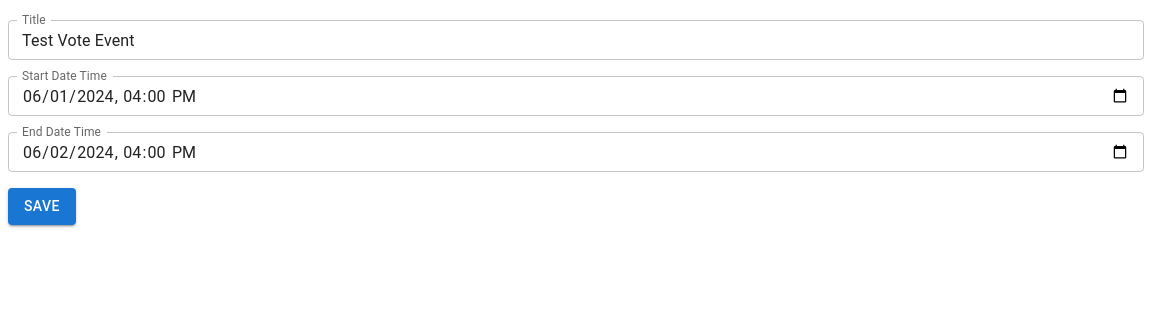
Test: <GeneralSettingsTab /> › should show validation errors for empty fields
Clear the field with id "title-input" at (576, 40), box [8,20,1144,60]
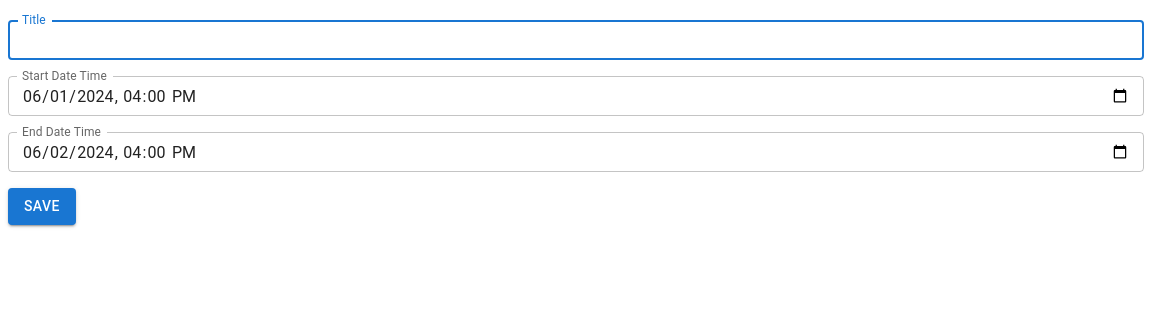
Clear the field with id "start-time-input" at (576, 96), box [8,76,1144,116]
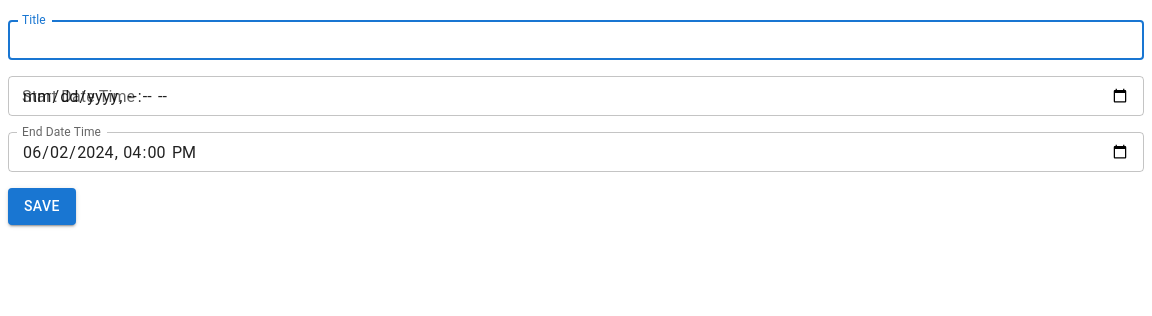
Clear the field with id "end-time-input" at (576, 152), box [8,132,1144,172]
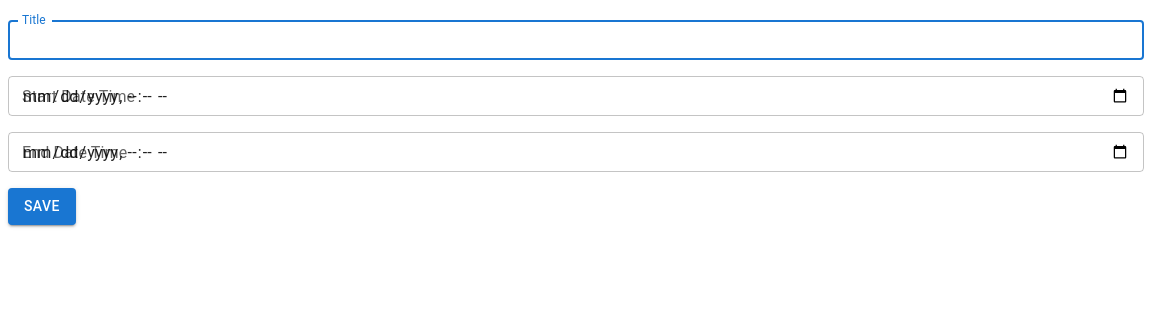
Click the button with id "edit-vote-event-general-settings-button" at (42, 207), box [8,188,76,225]
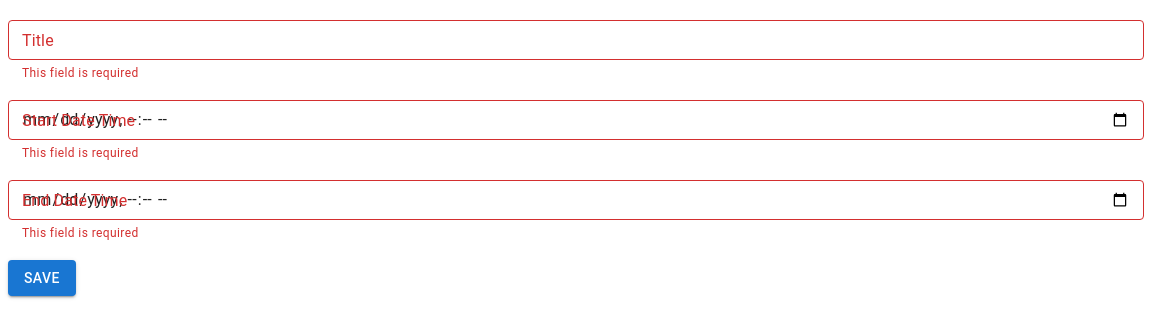
Check: the text "This field is required" below "Title" is shown, box [22,66,139,80]
